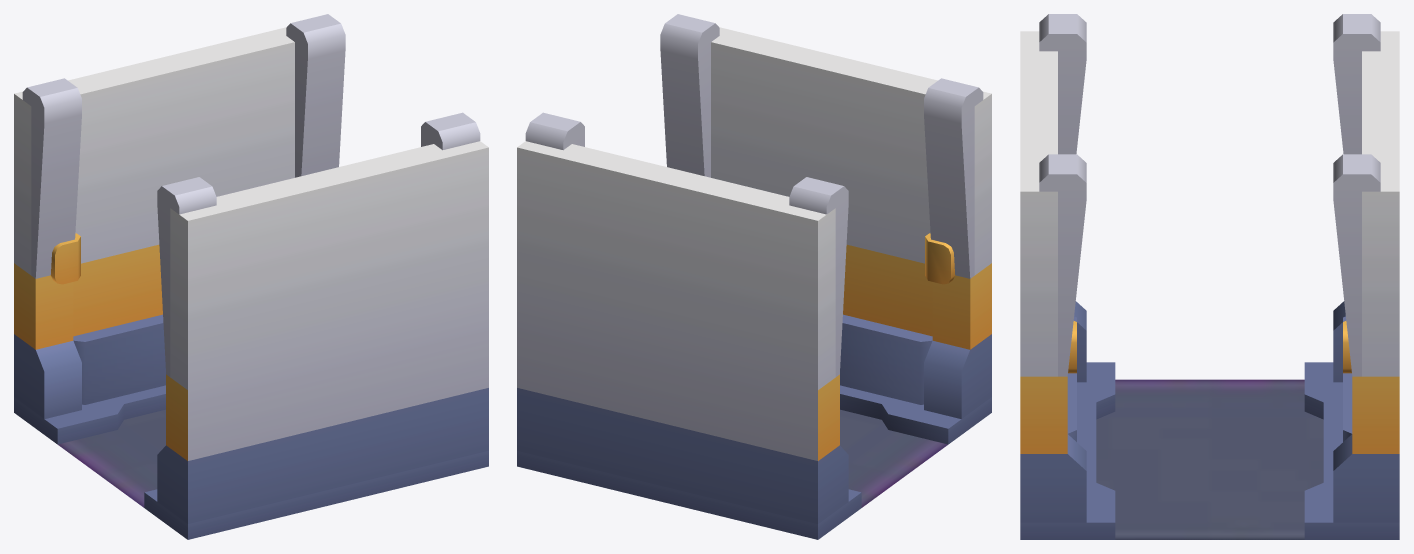
The model's file is corridor.glb.
3 views of the same model, side by side, from view 1: azimuth 30°, elevation 25°; view 2: azimuth 150°, elevation 25°; view 3: azimuth 270°, elevation 25° (orthographic). The views are drawn at different scales.
Parts seen in each view (by area): view 1: corridor; view 2: corridor; view 3: corridor.
Part boxes in pixels (box(x1,y1,x2,y2)): corridor: box(14, 14, 488, 539); corridor: box(517, 14, 991, 539); corridor: box(1020, 14, 1399, 539).
Size of the model in its own units: 4 by 4.25 by 4.
1 material, 1 textured.
